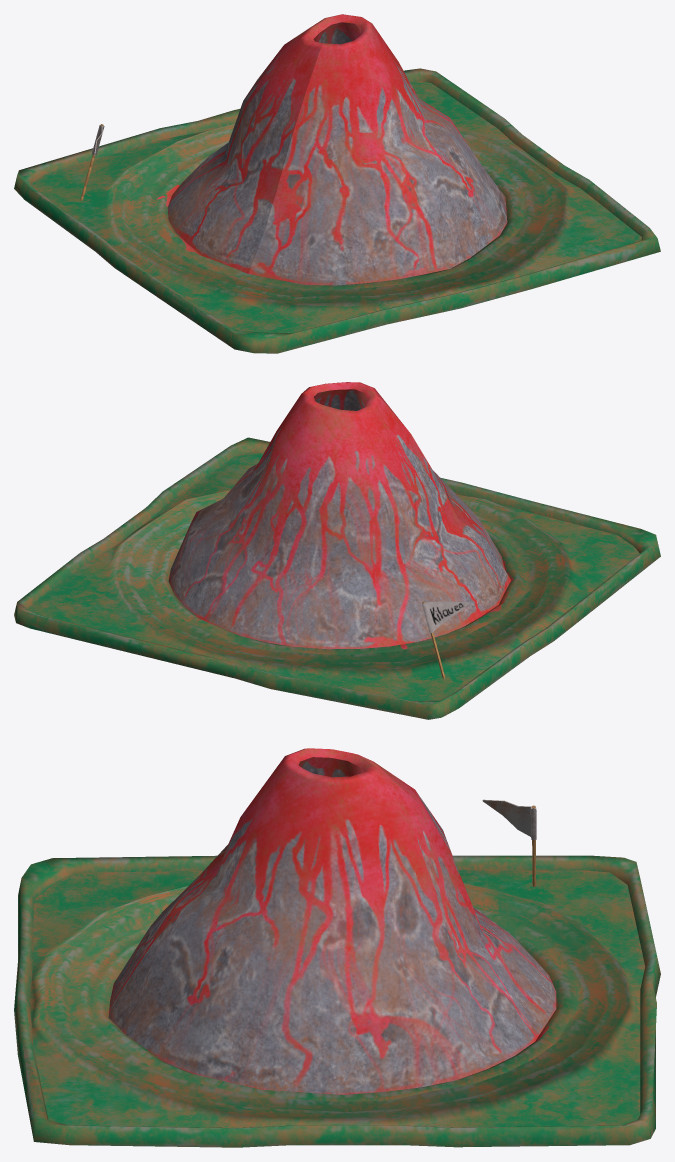
Rendered from SM_Volcano_01a.fbx.
3 views of the same model, one above another, from view 1: azimuth 30°, elevation 25°; view 2: azimuth 150°, elevation 25°; view 3: azimuth 270°, elevation 25° (orthographic). The views are drawn at different scales.
Parts seen in each view (by area): view 1: SM_Volcano_01a_LOD0; view 2: SM_Volcano_01a_LOD0; view 3: SM_Volcano_01a_LOD0.
Part boxes in pixels (box(x1,y1,x2,y2)): SM_Volcano_01a_LOD0: box(14, 14, 660, 353); SM_Volcano_01a_LOD0: box(14, 382, 660, 719); SM_Volcano_01a_LOD0: box(14, 748, 660, 1147).
Bounding box in the file's own units: 73.97 × 72.72 × 31.32.
1 material, 1 textured.
